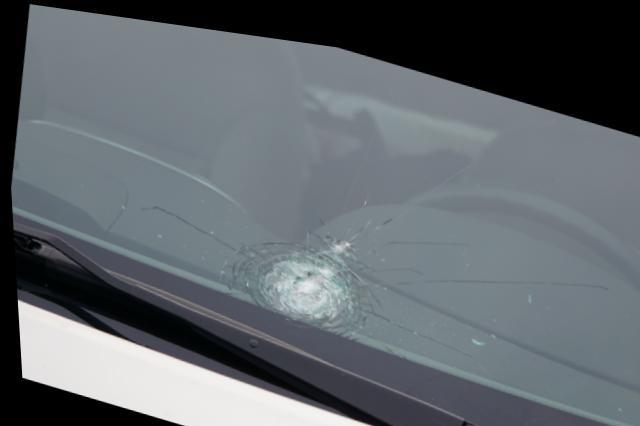glass shatter: (219, 224, 378, 327)
